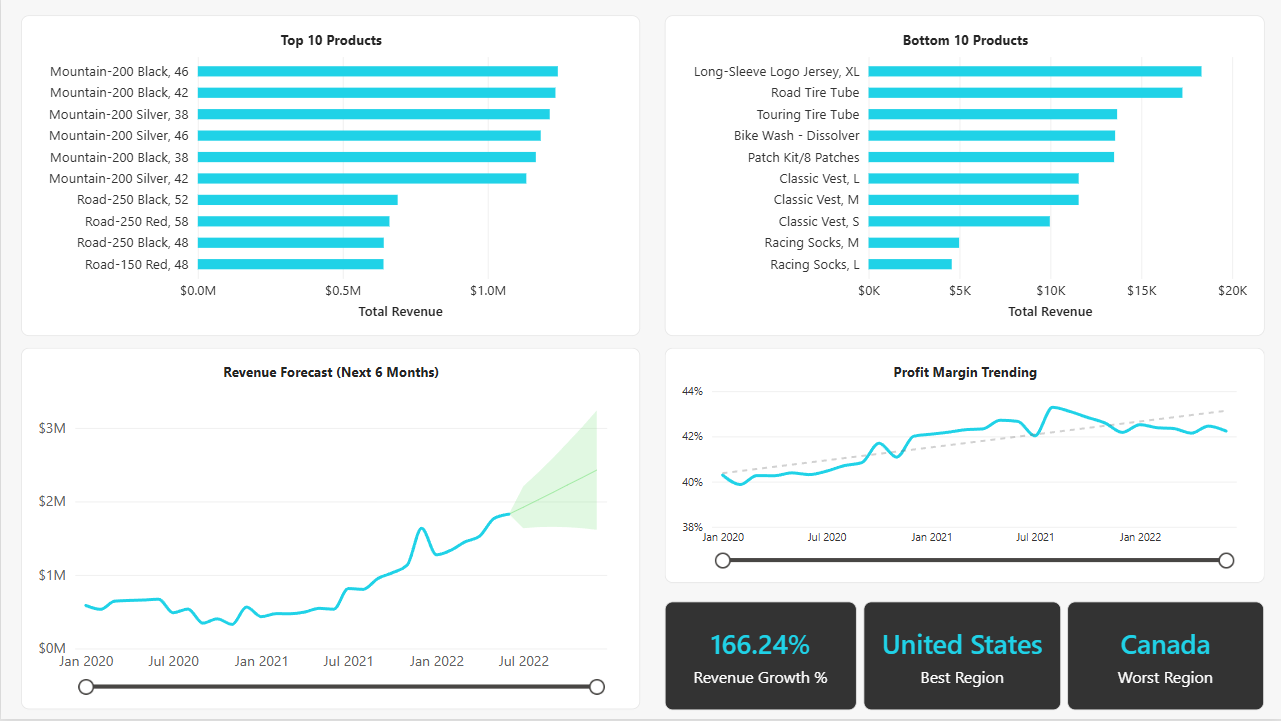

What the dashboard file says about the page in this screenshot:
{"tool":"powerbi","page":{"name":"Sales Performance","canvas":[1280,720],"ordinal":4},"visuals":[{"type":"clusteredBarChart","title":"Top 10 Products","fields":{"Category":["Product Lookup.ProductName"],"Y":["Measure Table.Total Revenue"]},"box":[20.5,15.7,618.9,320.9],"z":0},{"type":"clusteredBarChart","title":"Bottom 10 Products","fields":{"Category":["Product Lookup.ProductName"],"Y":["Measure Table.Total Revenue"]},"box":[663.5,15.7,599.6,320.9],"z":1000},{"type":"card","fields":{"Values":["Measure Table.Best Region"]},"box":[862,602,197.9,108.6],"z":2000},{"type":"card","fields":{"Values":["Measure Table.Worst Region"]},"box":[1066.5,602,196.6,108.6],"z":3000},{"type":"lineChart","title":"Profit Margin Trending","fields":{"Category":["Calendar Lookup.Start of Month"],"Y":["Measure Table.Profit Margin %"]},"box":[663.5,348.7,599.6,235.3],"z":3001},{"type":"lineChart","title":"Revenue Forecast (Next 6 Months)","fields":{"Category":["Calendar Lookup.Start of Month"],"Y":["Measure Table.Total Revenue"]},"box":[20.5,348.7,618.9,361.9],"z":3002},{"type":"card","fields":{"Values":["Measure Table.Revenue Growth %"]},"box":[663.5,602,191.8,108.6],"z":3003}]}

Visuals, with their boxes in screenshot pixels (x1, y1, x2, y2), scaled from the page's 1280x720 canvas onto the 1281x721 screenshot:
"Top 10 Products" clusteredBarChart: (21,16,640,337)
"Bottom 10 Products" clusteredBarChart: (664,16,1264,337)
card - Measure Table.Best Region: (863,603,1061,712)
card - Measure Table.Worst Region: (1067,603,1264,712)
"Profit Margin Trending" lineChart: (664,349,1264,585)
"Revenue Forecast (Next 6 Months)" lineChart: (21,349,640,712)
card - Measure Table.Revenue Growth %: (664,603,856,712)
